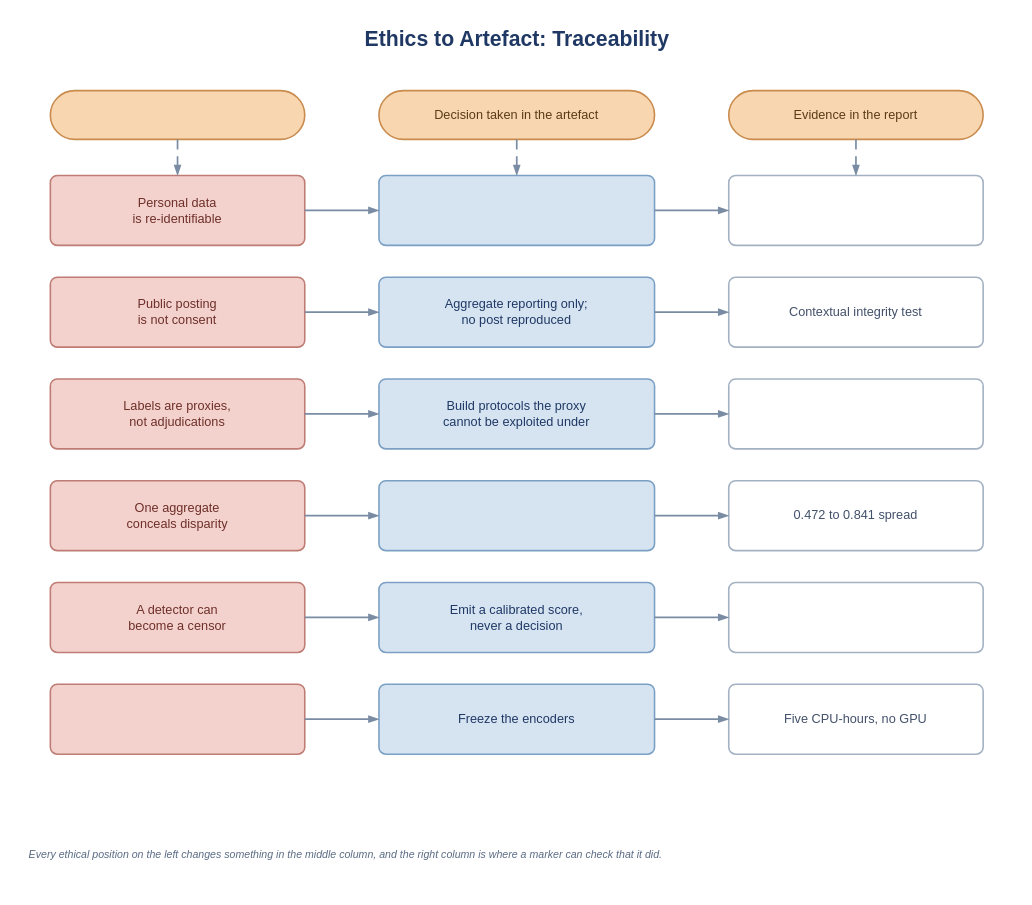
The diagram is 1032 pixels wide and 905 high, and some of its shapes have lost their labels. The shapes that lost their labels are listed below. From the top down, each one's centre as x and y in pixels, then its label:
At (x=177, y=114): "Ethical consideration".
At (x=516, y=210): "Drop the author column at build time".
At (x=855, y=210): "Asserted by a unit test".
At (x=855, y=413): "Protocols B and rotation".
At (x=516, y=515): "Report each held-out community separately".
At (x=855, y=617): "ECE 0.223 to 0.138".
At (x=177, y=719): "Compute has an environmental cost".
